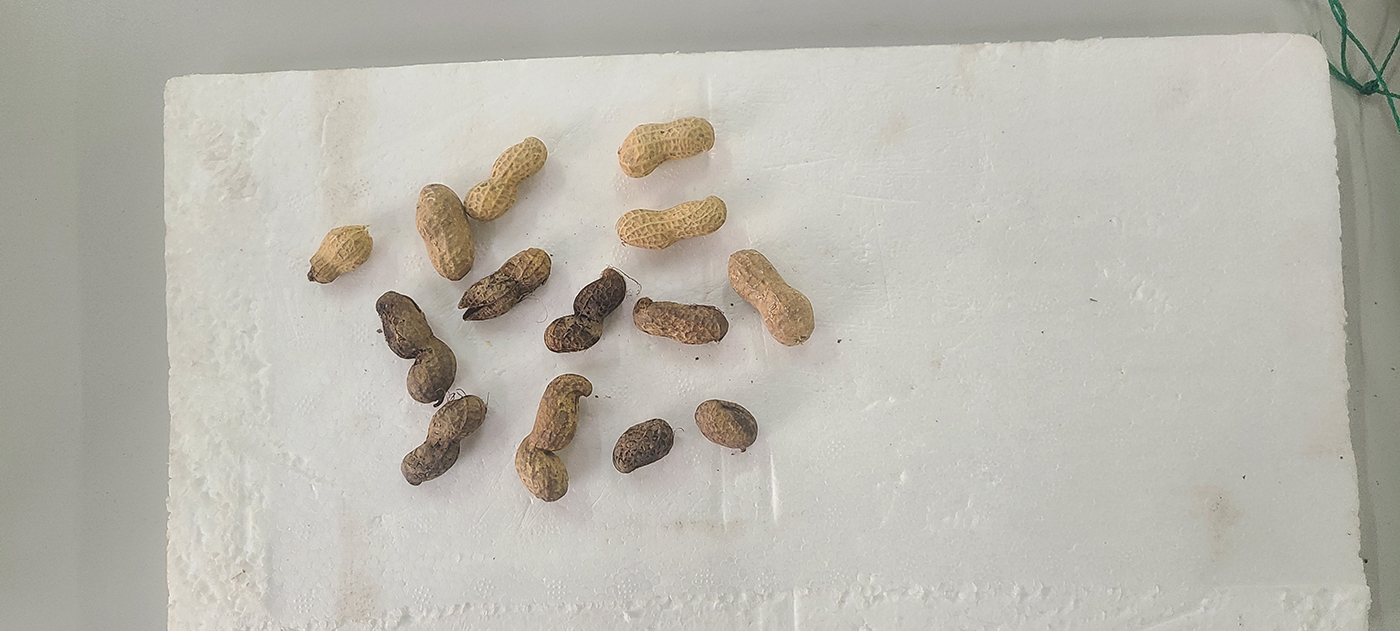h: (728, 249, 815, 348), (462, 136, 548, 221), (615, 195, 727, 249), (619, 116, 716, 178), (415, 184, 475, 282), (309, 224, 374, 284)
l: (515, 373, 593, 502), (377, 290, 457, 404), (401, 395, 485, 485), (543, 266, 627, 354), (460, 248, 551, 320), (632, 297, 730, 344), (612, 418, 675, 473), (696, 399, 759, 449)
